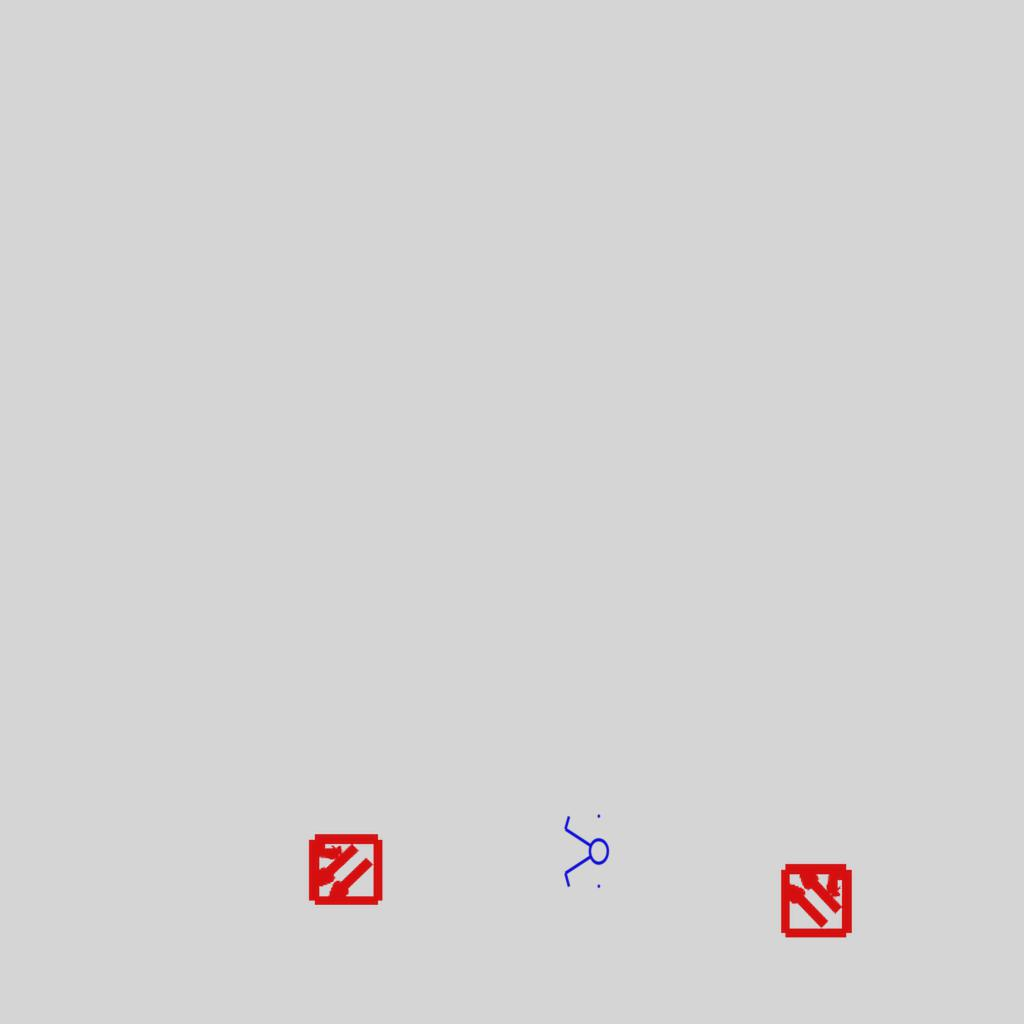OT_Multisensormelder_(Kombination_RMO_WMD): (287, 813, 400, 926), (760, 842, 873, 955)
Serienschalter: (562, 810, 610, 894)
